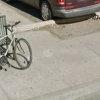Bicycle: (1, 17, 36, 74)
